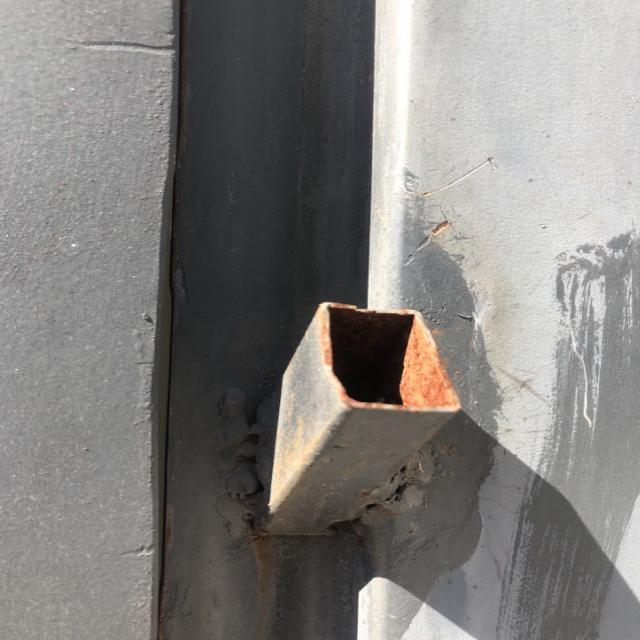Corrosion: (322, 302, 461, 411)
